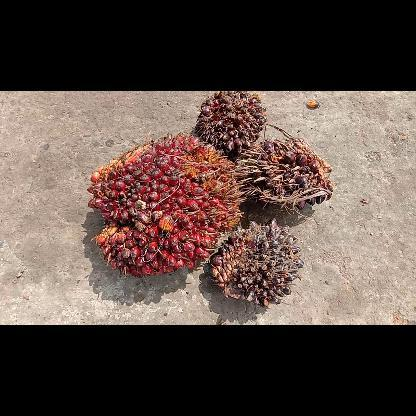TBS abnormal: (209, 216, 305, 308), (228, 135, 336, 215), (192, 90, 268, 156)
TBS masak: (84, 132, 244, 276)
